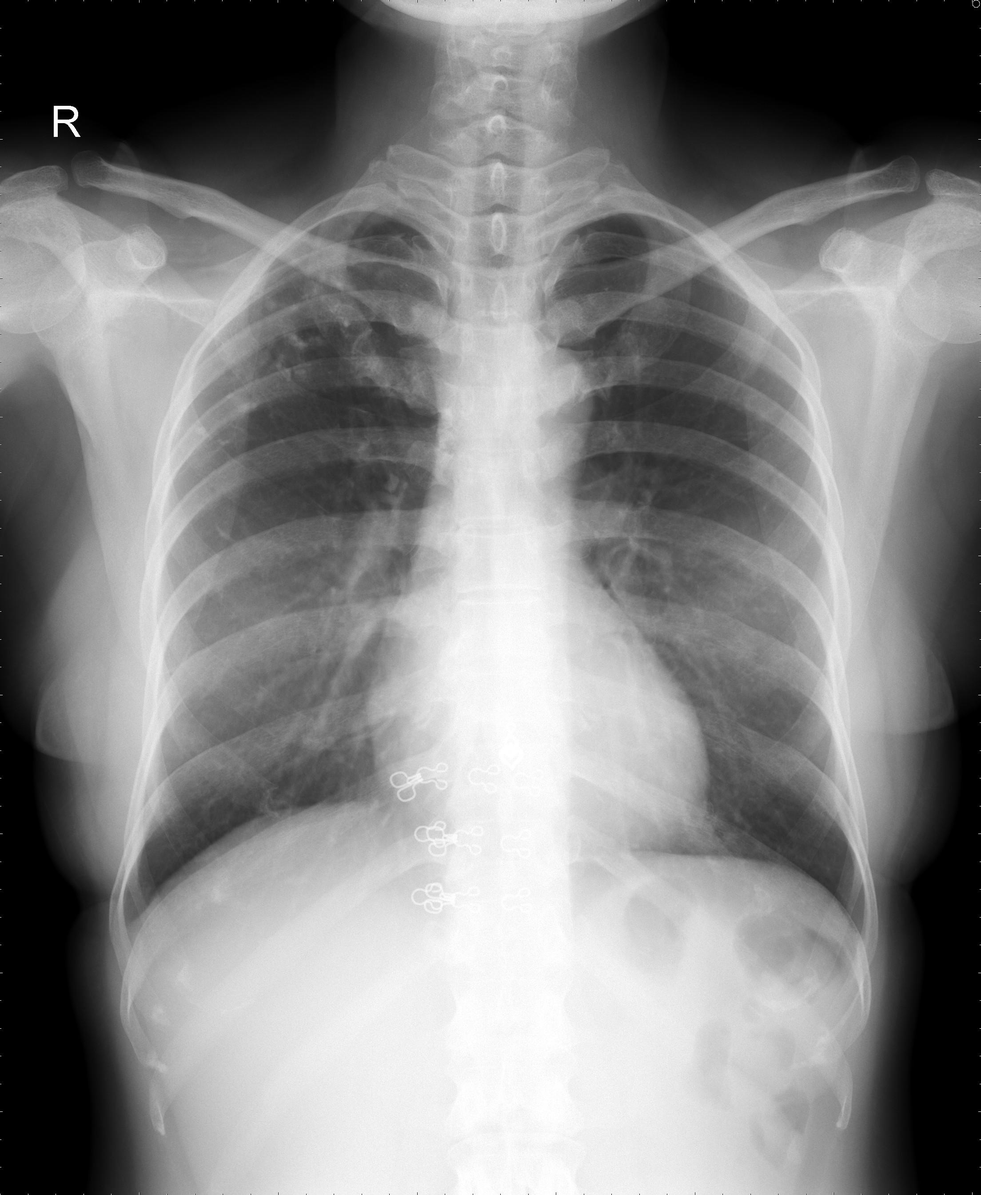Pleural thickening: (335, 209, 394, 227)
Pulmonary fibrosis: (227, 268, 371, 414)
